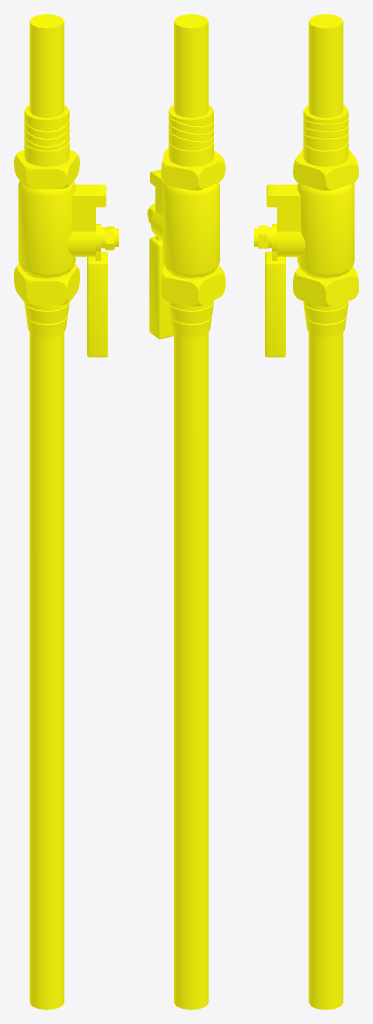
File: SM_GasValve01.glb
The picture shows the model from 3 angles, left to right: view 1: azimuth 90°, elevation 25°; view 2: azimuth 210°, elevation 25°; view 3: azimuth 270°, elevation 25°; orthographic projection.
Visible parts, largest first — view 1: SM_GasValve01; view 2: SM_GasValve01; view 3: SM_GasValve01.
Boxes of the visible parts, x1,y1,x2,y2 form: SM_GasValve01: (14,14,118,1009); SM_GasValve01: (147,14,225,1009); SM_GasValve01: (254,14,358,1009).
Size of what is drawn, in the model's own units: 0.0574 by 0.9836 by 0.0952.
1 material, 1 textured.
